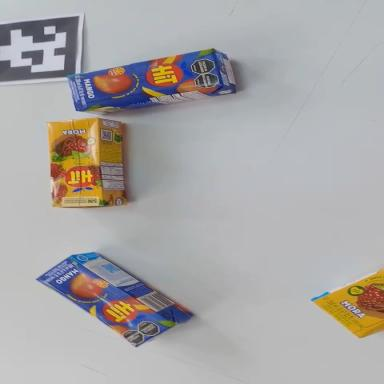HIT-MANGO: (37, 231, 194, 364), (68, 46, 238, 120)
HIT-MORA: (49, 117, 126, 210), (309, 269, 384, 347)
cara_F: (34, 248, 175, 359), (67, 48, 220, 111), (313, 266, 384, 348), (46, 117, 104, 210)
